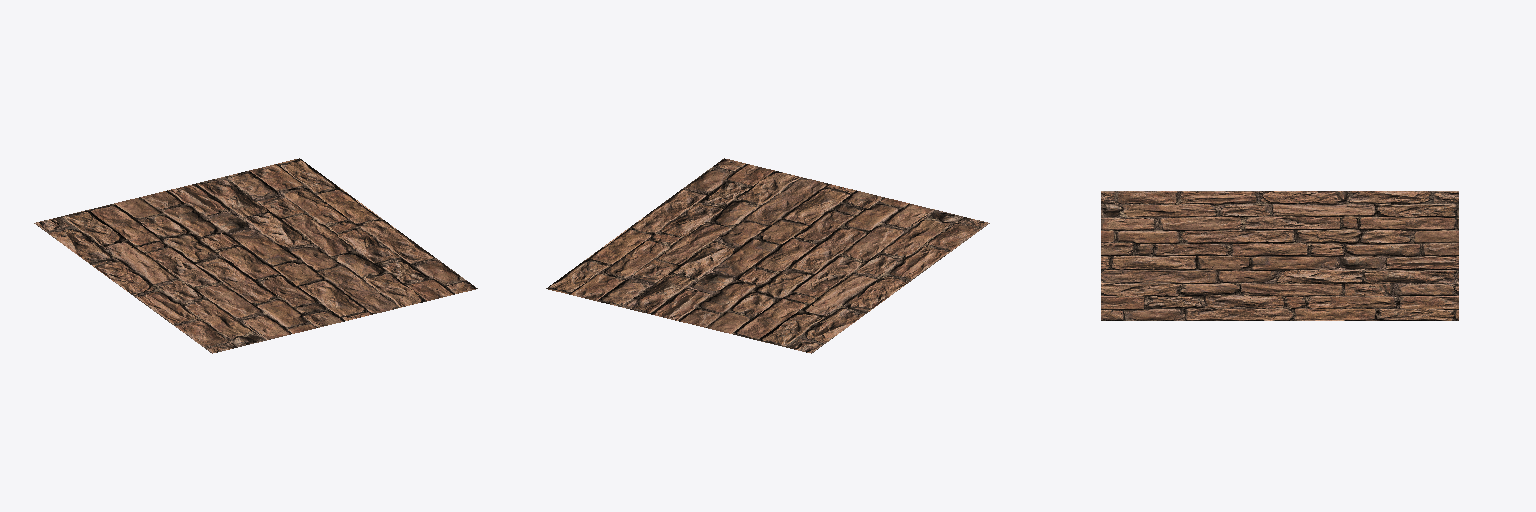
3 views of the same model, side by side, from view 1: azimuth 30°, elevation 25°; view 2: azimuth 150°, elevation 25°; view 3: azimuth 270°, elevation 25° (orthographic).
Parts seen in each view (by area): view 1: Plane; view 2: Plane; view 3: Plane.
Boxes of the visible parts, <box> form: Plane: <box>34,158,477,353</box>; Plane: <box>546,158,989,353</box>; Plane: <box>1101,191,1458,320</box>.
Size of the model in its own units: 7.88 by 0 by 9.16.
Materials: 1 (1 with a texture image).